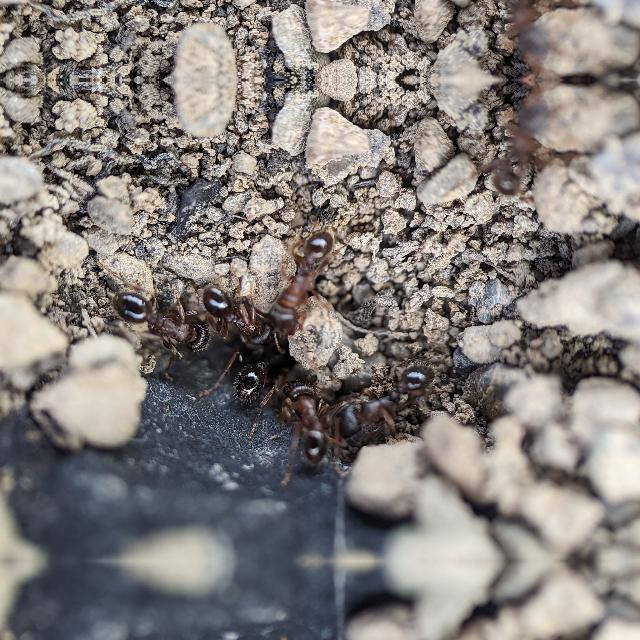Tetramorium: (248, 222, 350, 338), (101, 278, 222, 364), (329, 366, 449, 442), (195, 274, 287, 348), (269, 372, 339, 461)
